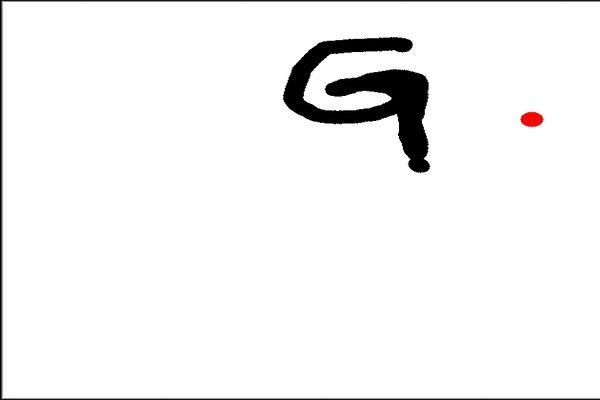G: (277, 31, 442, 175)
